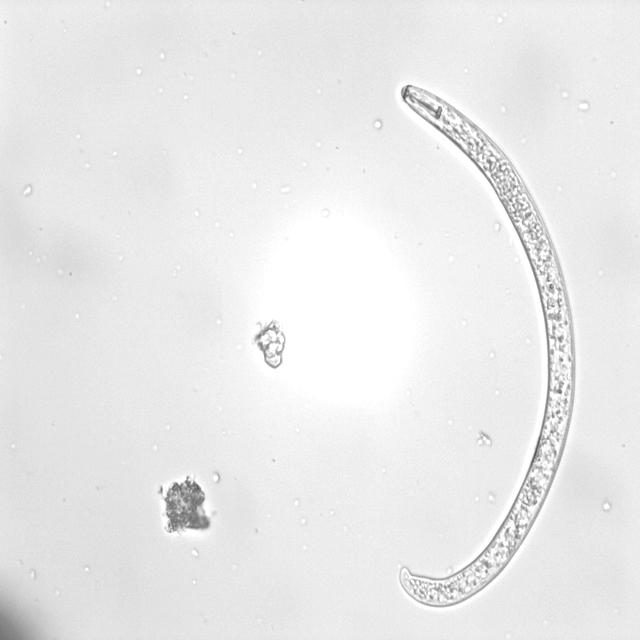Helicotylenchus: (395, 86, 580, 624)
